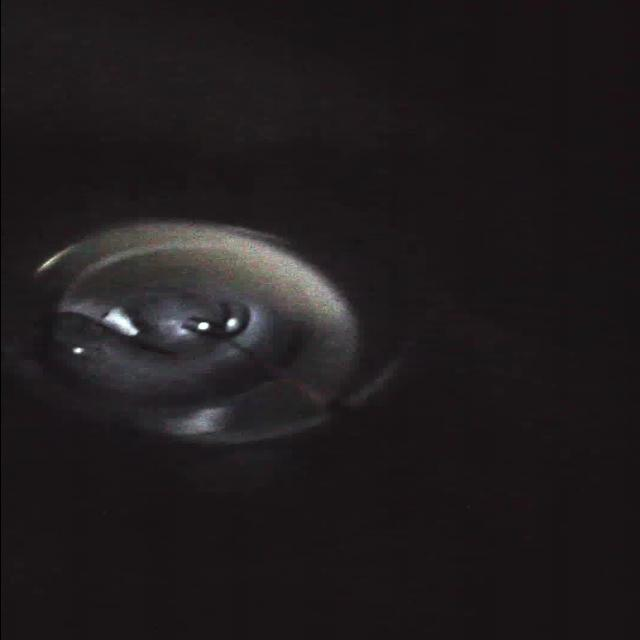impurity: (43, 301, 105, 348), (102, 306, 143, 338)
